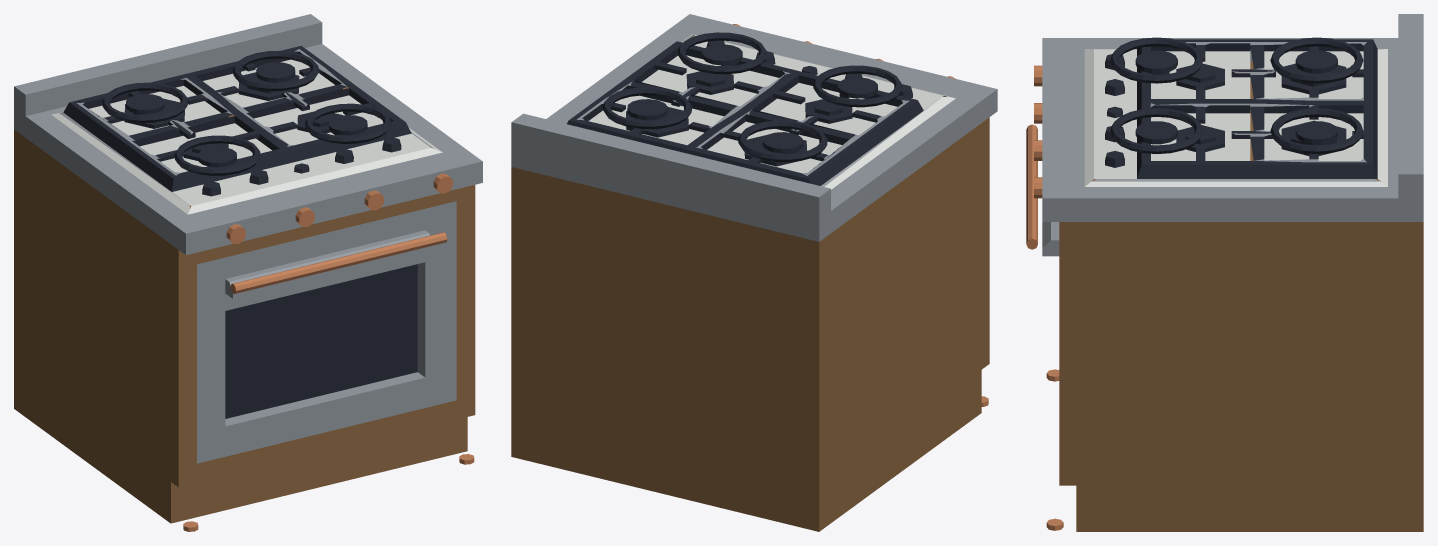
File: kitchenStove.glb
3 views of the same model, side by side, from view 1: azimuth 30°, elevation 25°; view 2: azimuth 150°, elevation 25°; view 3: azimuth 270°, elevation 25° (orthographic). The views are drawn at different scales.
Parts seen in each view (by area): view 1: kitchenStove(Clone), door; view 2: kitchenStove(Clone); view 3: kitchenStove(Clone), door.
Boxes of the visible parts, x1,y1,x2,y2 form: kitchenStove(Clone): [14, 14, 482, 531]; door: [197, 201, 456, 463]; kitchenStove(Clone): [511, 14, 997, 531]; kitchenStove(Clone): [1034, 14, 1423, 531]; door: [1026, 124, 1059, 256].
Size of the model in its own units: 0.43 by 0.45 by 0.45.
